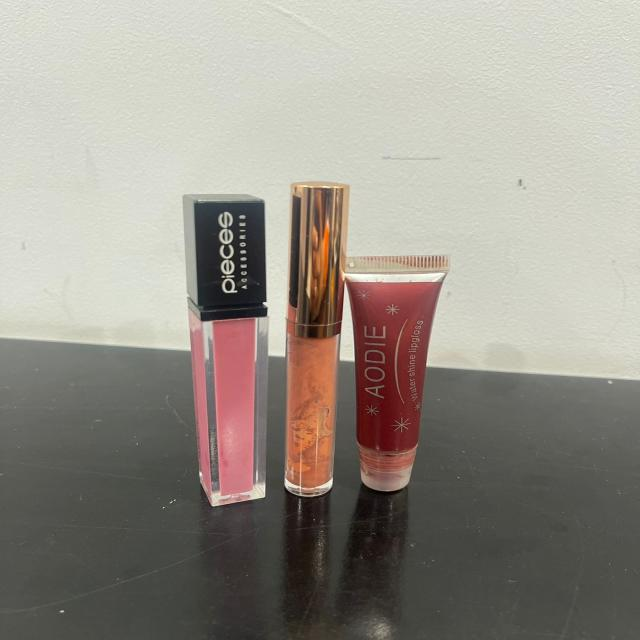lip balm: (335, 244, 462, 496)
lip gloss: (169, 186, 273, 508), (275, 176, 351, 504)
